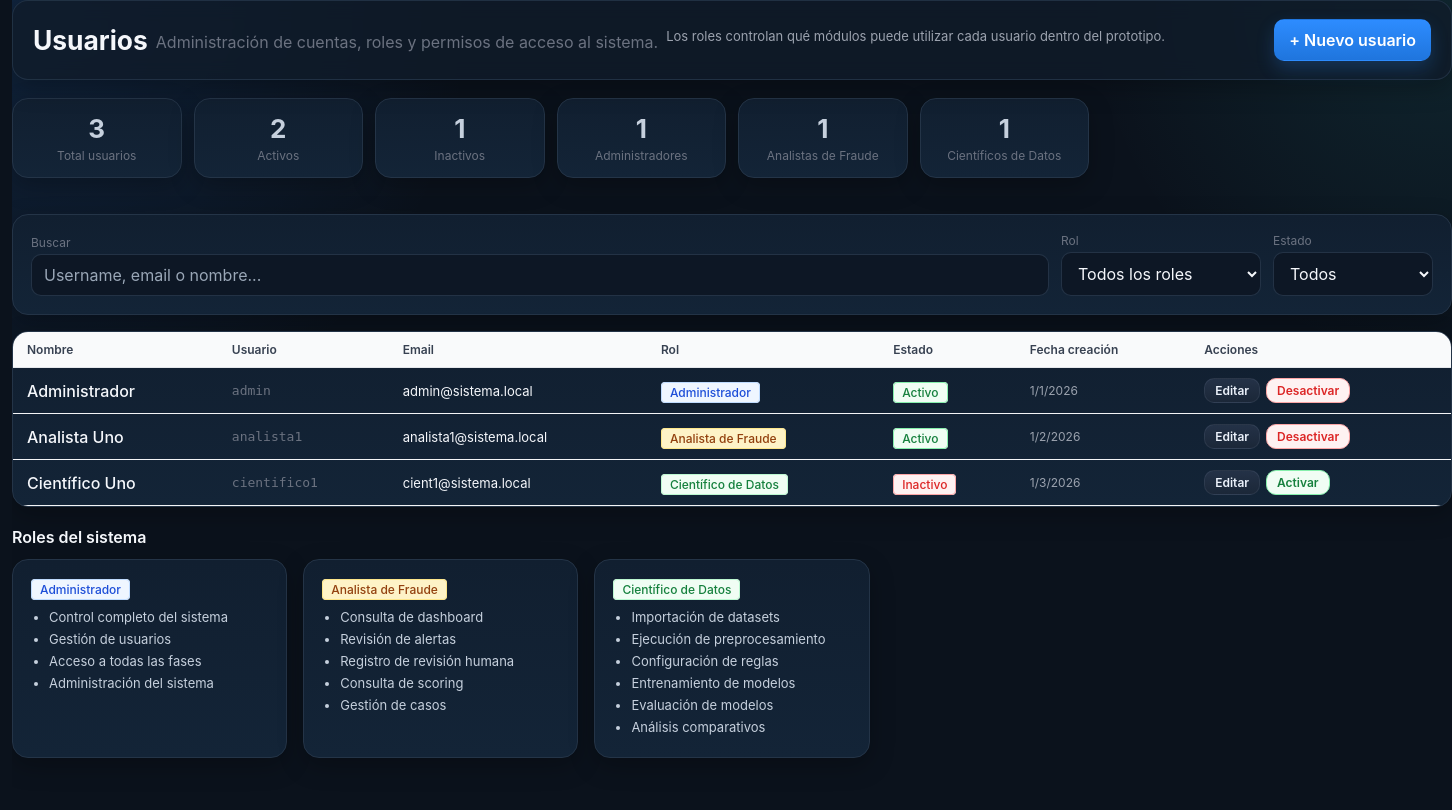
Test: Pantalla Usuarios › filtra por estado activo/inactivo
expect the text "Analista Uno" is shown: met, box top-left (13, 414), bottom-right (218, 460)
Select "Inactivo" in the dropdown with test id "filter-status": (1353, 274) top-left (1273, 252), bottom-right (1433, 296)
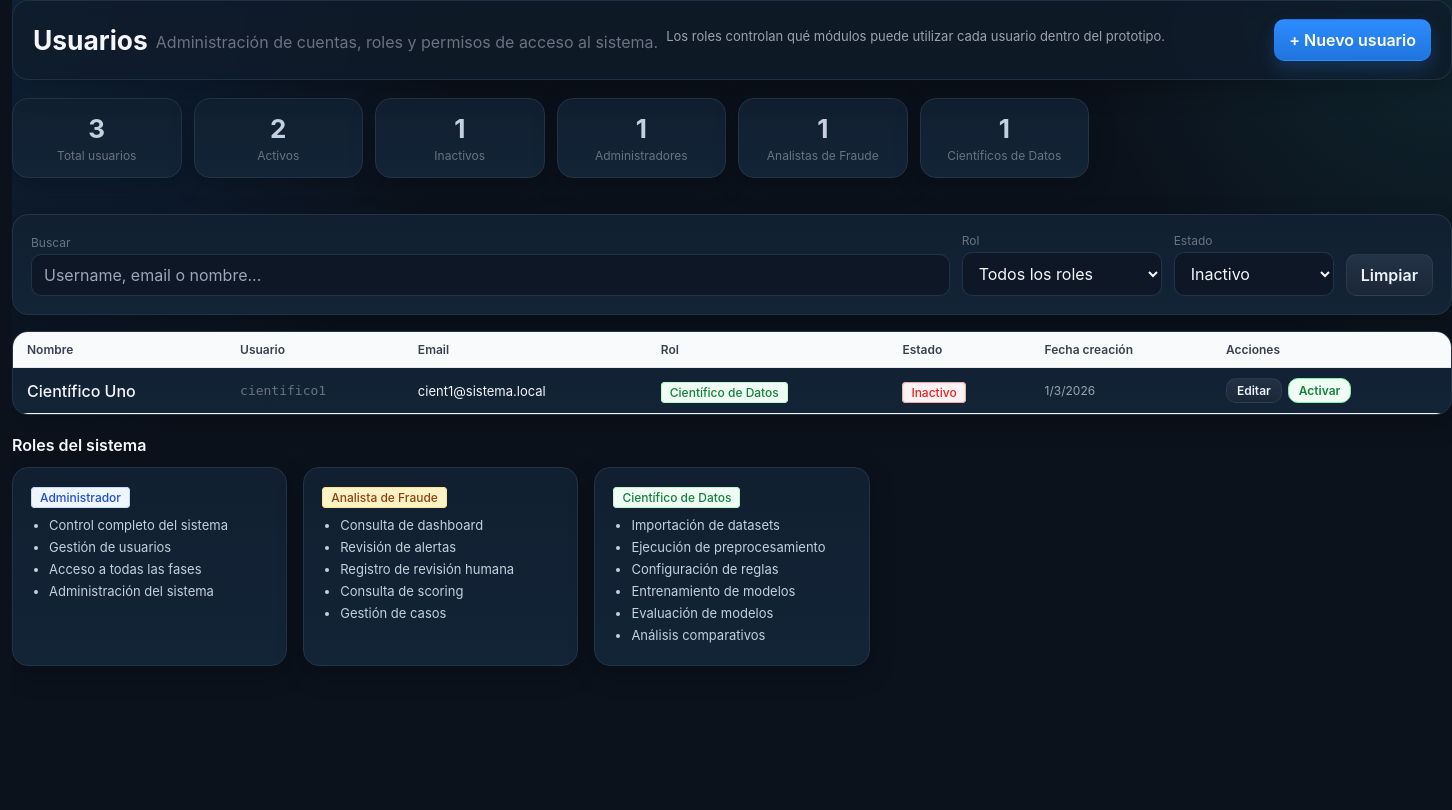
expect the text "Científico Uno" is shown: met, box top-left (13, 368), bottom-right (226, 414)
expect the text "Analista Uno" is gone: met
